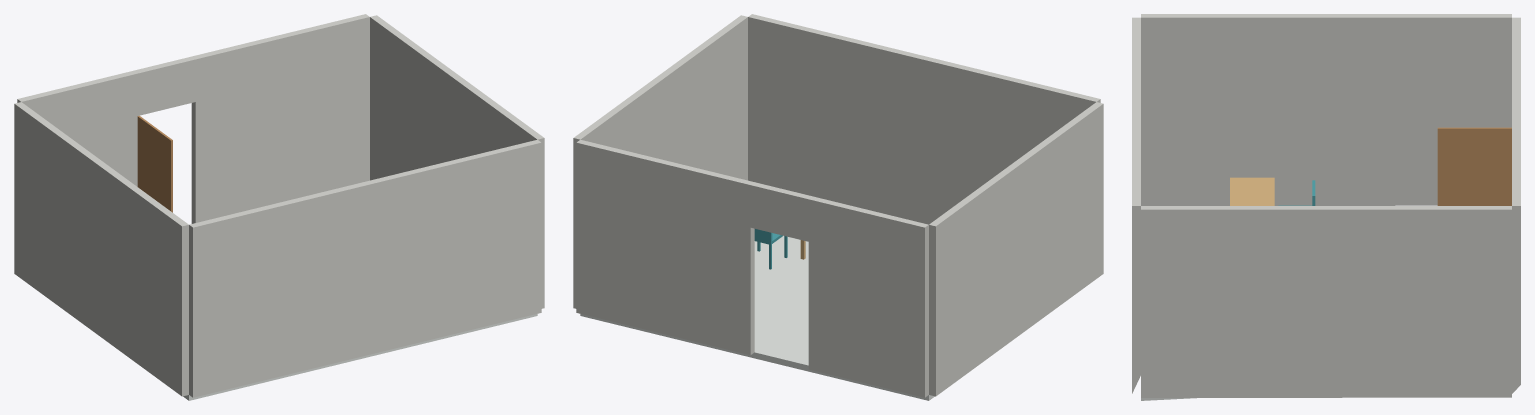
The model's file is vertex-deformation.glb.
The picture shows the model from 3 angles, left to right: view 1: azimuth 30°, elevation 25°; view 2: azimuth 150°, elevation 25°; view 3: azimuth 270°, elevation 25°; orthographic projection. The views are drawn at different scales.
Visible parts, largest first — view 1: room:north:full, room:west:full, room:south:high, room:east:full, room:south:low, room:south:lintel, door:leaf, room:floor; view 2: room:north:full, room:south:high, room:west:full, room:south:low, room:east:full, room:floor, room:south:lintel; view 3: room:east:full, room:west:full, door:leaf, room:north:full, room:south:high, manual-a:table:top, room:south:low.
Boxes of the visible parts, x1,y1,x2,y2 form: room:north:full: (189,139,541,397); room:west:full: (14,102,188,396); room:south:high: (191,14,369,223); room:east:full: (370,15,544,308); room:south:low: (17,70,137,186); room:south:lintel: (134,56,195,115); door:leaf: (137,115,172,212); room:floor: (183,314,537,400); room:north:full: (748,14,1100,224); room:south:high: (576,139,754,355); room:west:full: (929,102,1103,396); room:south:low: (808,196,928,397); room:east:full: (573,15,747,308); room:floor: (580,235,934,400); room:south:lintel: (750,182,812,241); room:east:full: (1141,206,1511,397); room:west:full: (1141,14,1511,205); door:leaf: (1437,127,1511,205); room:north:full: (1132,17,1140,393); room:south:high: (1512,112,1520,393); manual-a:table:top: (1230,177,1274,205); room:south:low: (1512,17,1520,80).
Size of the model in its own units: 6.24 by 2.9 by 5.24.
